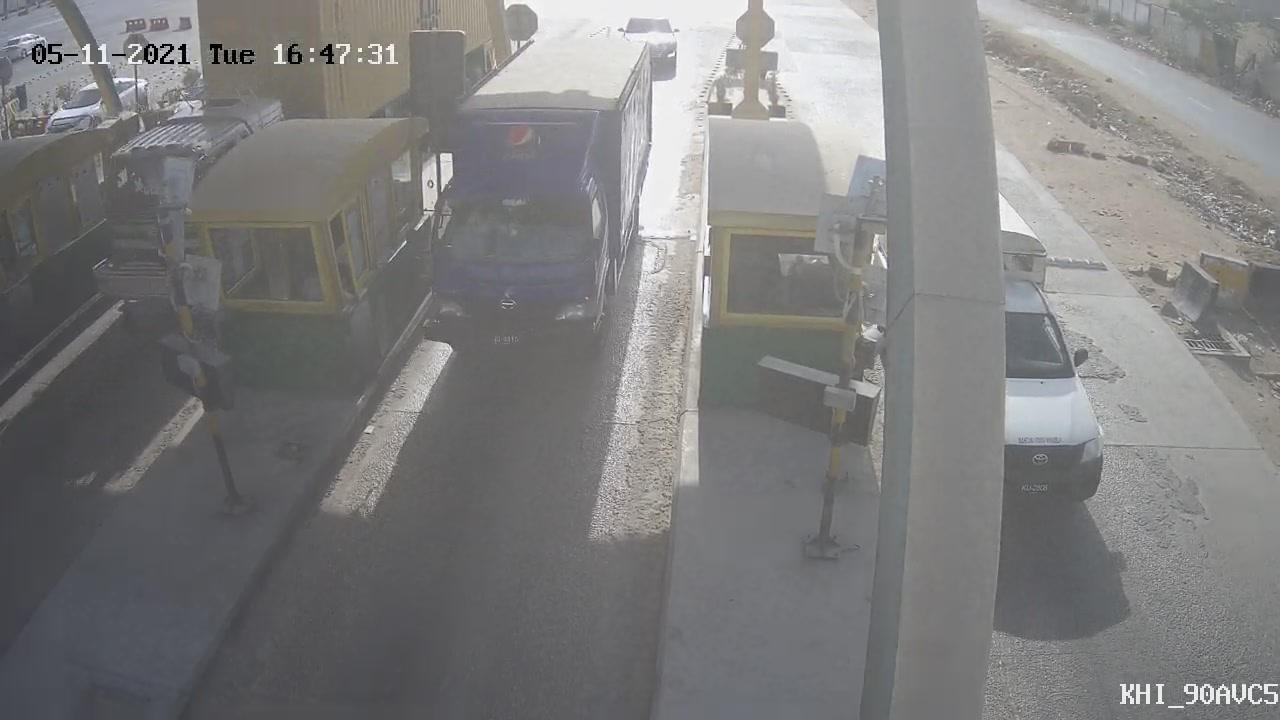F5: (399, 25, 678, 386)
